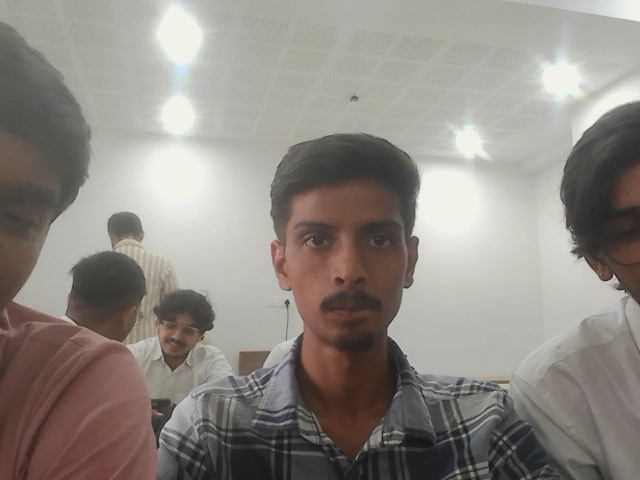light_on: (151, 87, 203, 133), (446, 119, 490, 157), (538, 62, 559, 87), (615, 5, 636, 25)
person: (0, 19, 162, 478), (504, 101, 639, 479), (130, 289, 231, 426), (65, 250, 147, 343), (115, 203, 190, 296)
